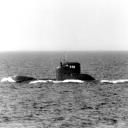submarine: (15, 63, 103, 83)
